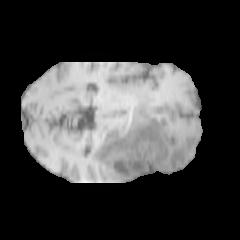glioma: (91, 112, 185, 176)
